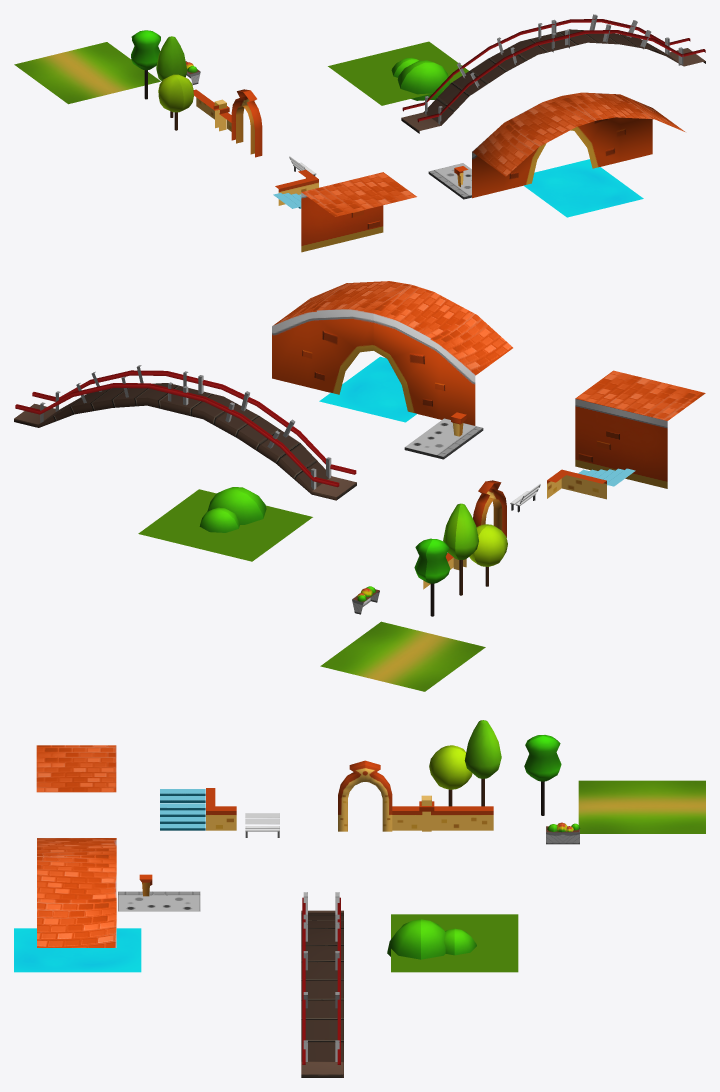
Rendered from Map2.fbx.
The picture shows the model from 3 angles, top to bottom: view 1: azimuth 30°, elevation 25°; view 2: azimuth 150°, elevation 25°; view 3: azimuth 270°, elevation 25°; orthographic projection. The views are drawn at different scales.
Parts seen in each view (by area): view 1: Cauto, Caugo, Tuong, Co2, Song, Co1, Cay4, Cong, Cay1, Cay3, Cay2, Viahe (+1 smaller); view 2: Cauto, Caugo, Tuong, Co2, Co1, Song, Cay4, Viahe, Cay2, Cay3, Cay1, Cong (+1 smaller); view 3: Cauto, Caugo, Co2, Co1, Song, Tuong, Cay4, Cauthang, Cong, Viahe, Cay2, Tuong1 (+6 smaller).
Boxes of the visible parts, box(x1,y1,x2,y2) form: Cauto: box(472, 92, 684, 198); Caugo: box(401, 14, 705, 133); Tuong: box(301, 172, 416, 252); Co2: box(14, 42, 160, 104); Song: box(524, 159, 643, 217); Co1: box(328, 41, 468, 105); Cay4: box(391, 57, 450, 100); Cong: box(231, 89, 262, 157); Cay1: box(158, 74, 193, 130); Cay3: box(131, 30, 160, 99); Cay2: box(156, 36, 187, 117); Viahe: box(428, 163, 471, 199); Cauto: box(272, 281, 512, 425); Caugo: box(14, 365, 356, 500); Tuong: box(575, 370, 705, 488); Co2: box(320, 621, 485, 691); Co1: box(138, 489, 312, 561); Song: box(319, 356, 416, 422); Cay4: box(199, 487, 266, 532); Viahe: box(404, 418, 483, 459); Cay2: box(443, 503, 478, 595); Cay3: box(414, 538, 450, 616); Cay1: box(469, 524, 507, 586); Cong: box(473, 480, 506, 537); Cauto: box(37, 838, 116, 947); Caugo: box(301, 892, 343, 1077); Co2: box(578, 780, 705, 833); Co1: box(391, 914, 518, 972); Song: box(14, 928, 141, 972); Tuong: box(36, 745, 116, 792); Cay4: box(387, 919, 476, 959); Cauthang: box(160, 789, 205, 830); Cong: box(338, 760, 392, 831); Viahe: box(118, 891, 200, 911); Cay2: box(464, 720, 501, 806); Tuong1: box(431, 806, 493, 830).
Size of the model in its own units: 259 by 45.24 by 255.
